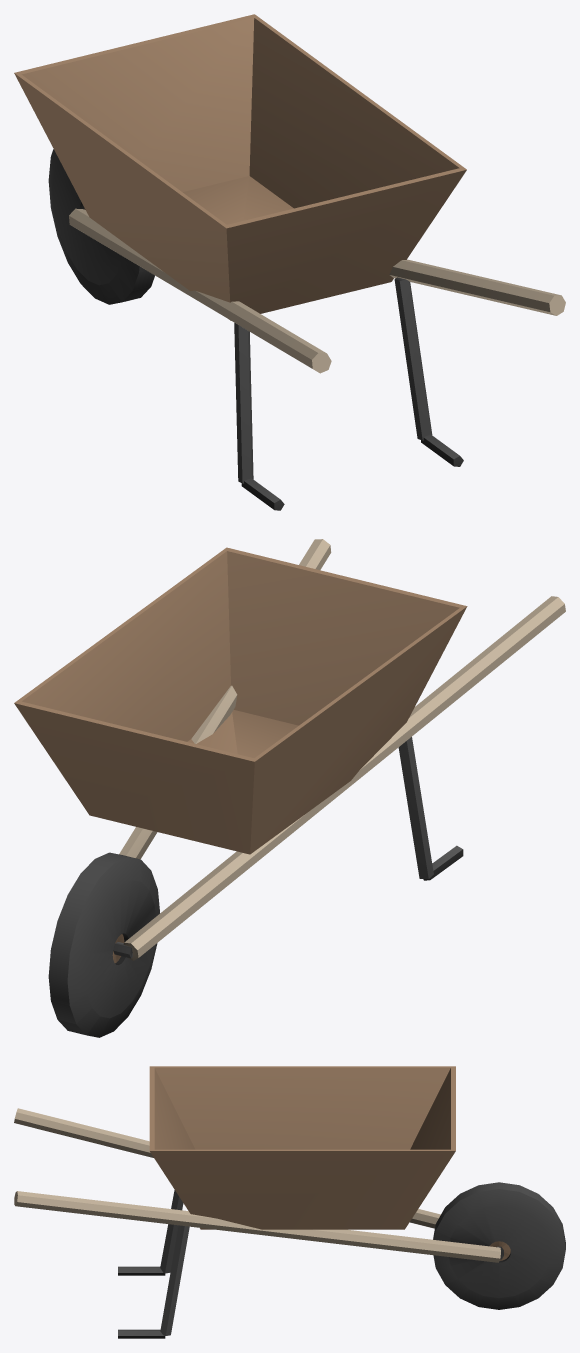
File: wheelbarrow.glb
3 renders of one model, top to bottom at view 1: azimuth 30°, elevation 25°; view 2: azimuth 150°, elevation 25°; view 3: azimuth 270°, elevation 25°, orthographic. The views are drawn at different scales.
Parts seen in each view (by area): view 1: static; view 2: static; view 3: static.
Part boxes in pixels (<box>): static: <box>14,14,565,510</box>; static: <box>14,539,565,1037</box>; static: <box>14,1066,565,1338</box>.
Bounding box in the file's own units: 0.5377 × 0.556 × 1.4.
